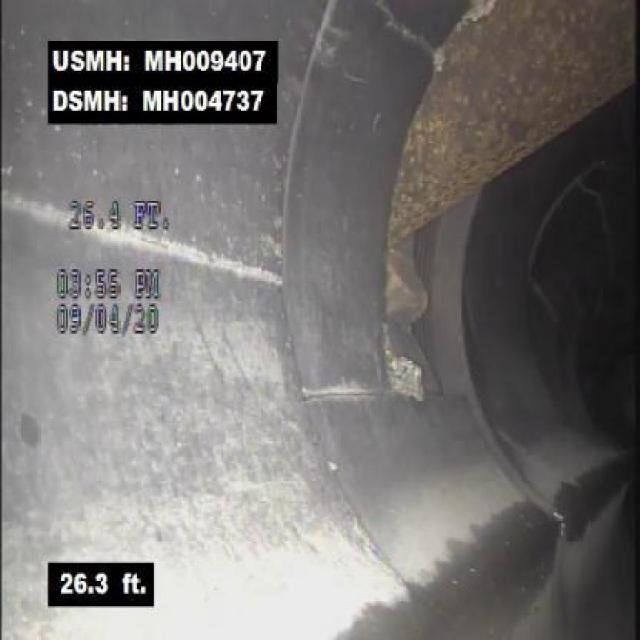Utility intrusion: (486, 2, 639, 169), (383, 2, 486, 242)
